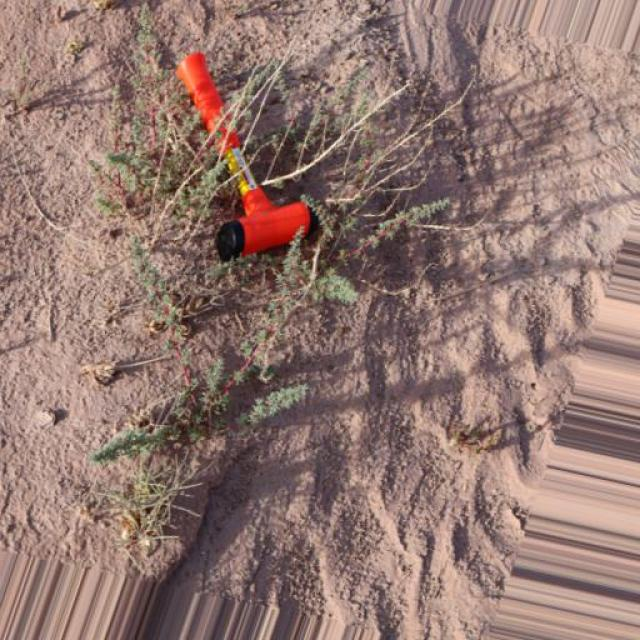mallet: (172, 49, 316, 262)
